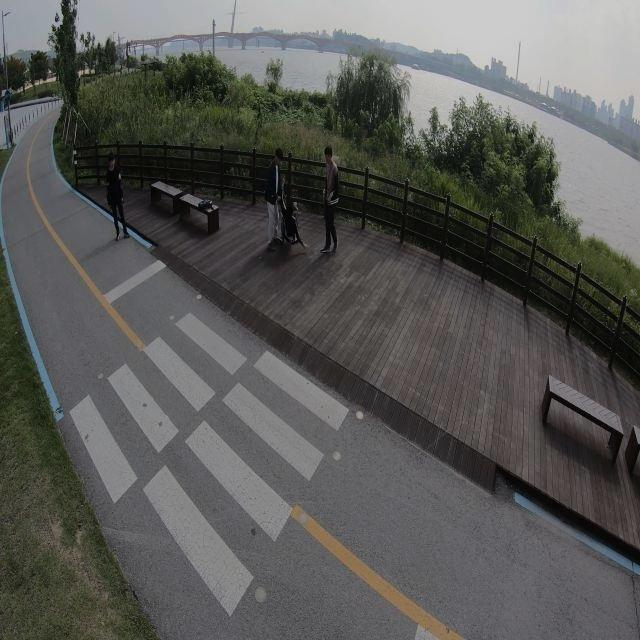fight: (262, 145, 308, 253), (319, 146, 339, 254)
non-fight: (105, 153, 129, 239)
